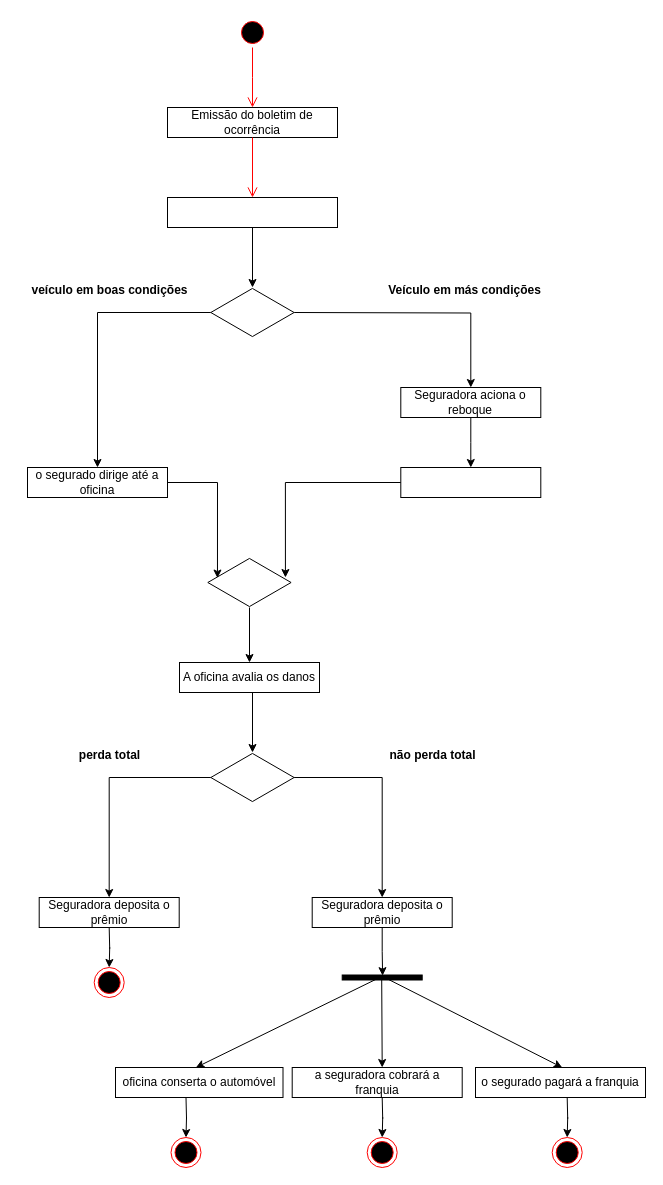
Some shapes in this 663 by 1185 pixel diagram are drawn without their labels. Each missing label, with the box of its shape:
Notificação da seguradora: (166, 196, 338, 228)
o reboque leva o veículo até a oficina: (400, 466, 541, 498)
